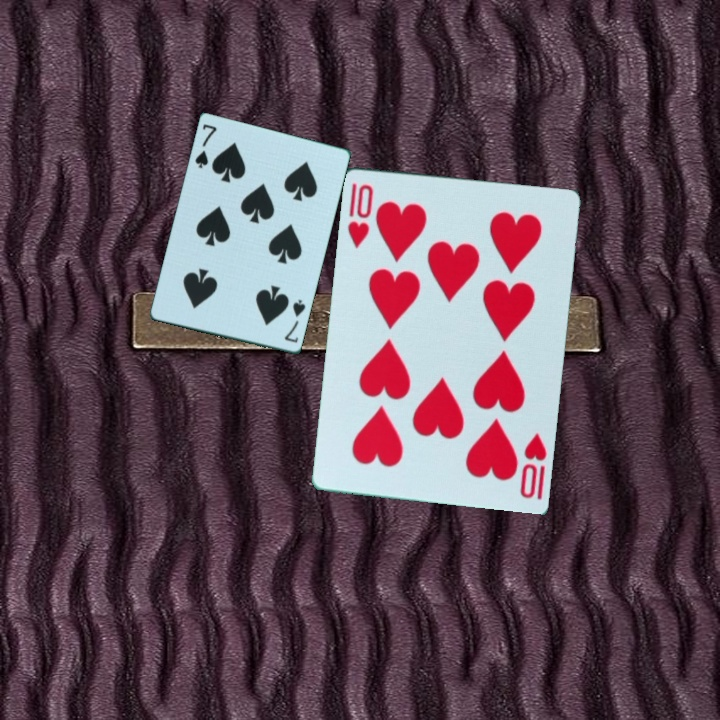10h: (516, 429, 549, 503), (343, 179, 376, 251)
7s: (192, 121, 220, 172), (281, 296, 309, 346)
